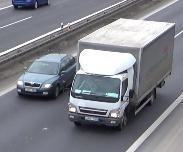car: (16, 54, 77, 99), (12, 0, 49, 9)
truck: (68, 18, 176, 131)
